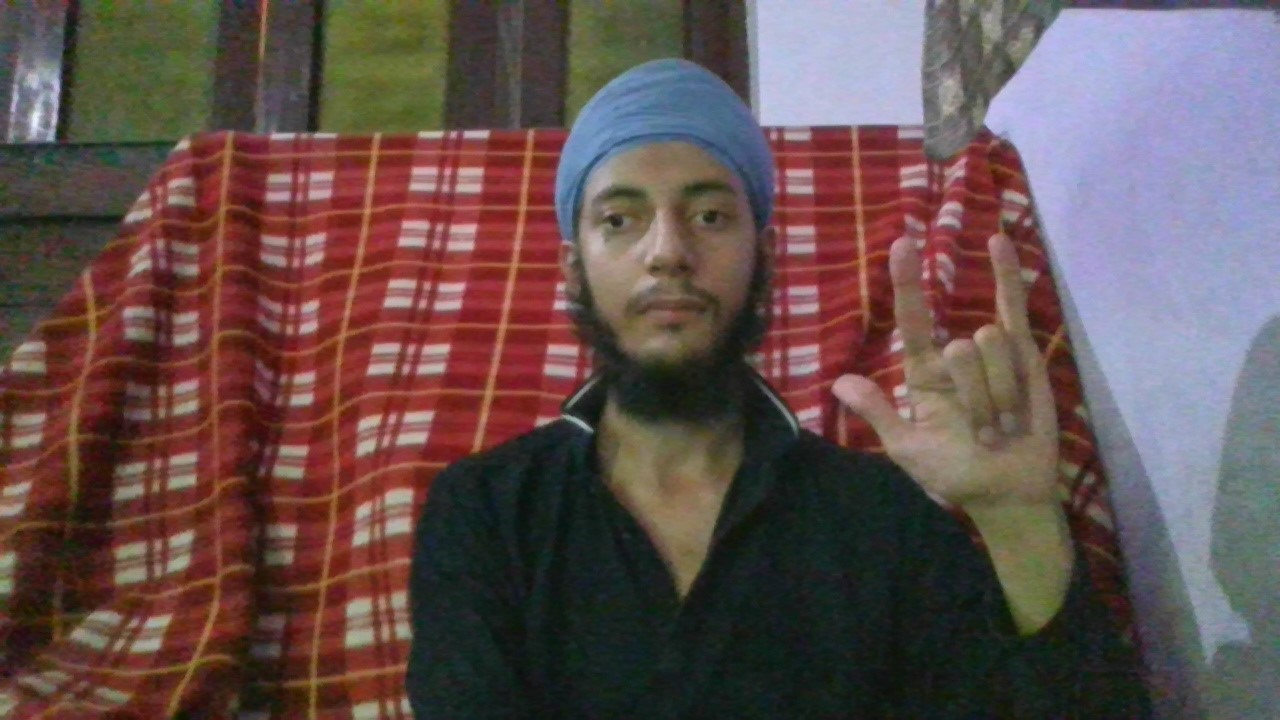I Love You: (826, 232, 1063, 510)
